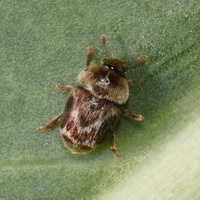insect: (36, 35, 146, 156)
